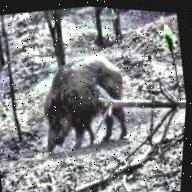boar: (18, 33, 152, 167)
